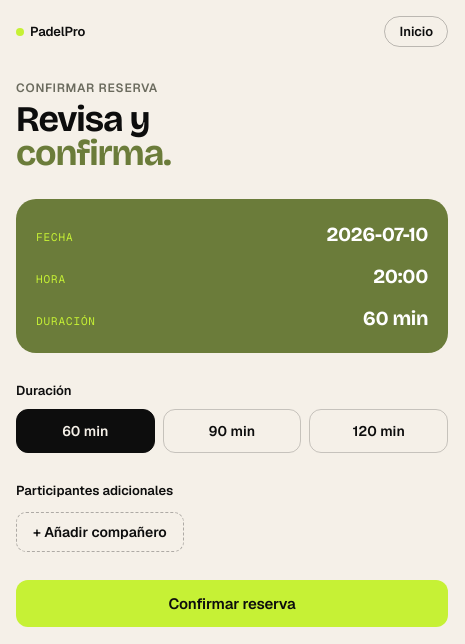
Scenario: ConfirmarReservaPage (Grupo 5) › 5.1 — muestra fecha/hora/duración elegidas y el precio total del backend
The width and height of the screenshot is (465, 644).
Check: the text "20:00" is shown, box [373,261,428,291]
Check: the text with test id "resumen-duracion" reads "60 min", box [363,303,428,333]
Click the button "Confirmar reserva" at (232, 604), box [16,580,448,627]
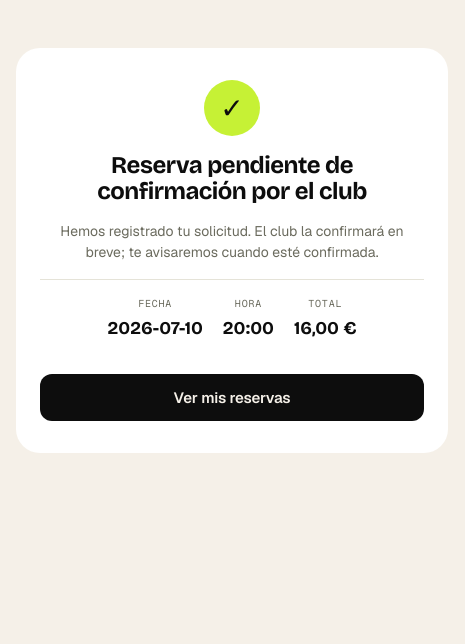
Check: the text "16,00 €" is shown, box [294,315,356,342]
